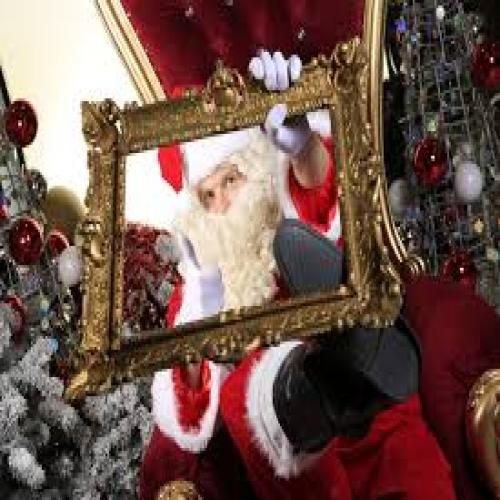Santa: (154, 44, 451, 500)
